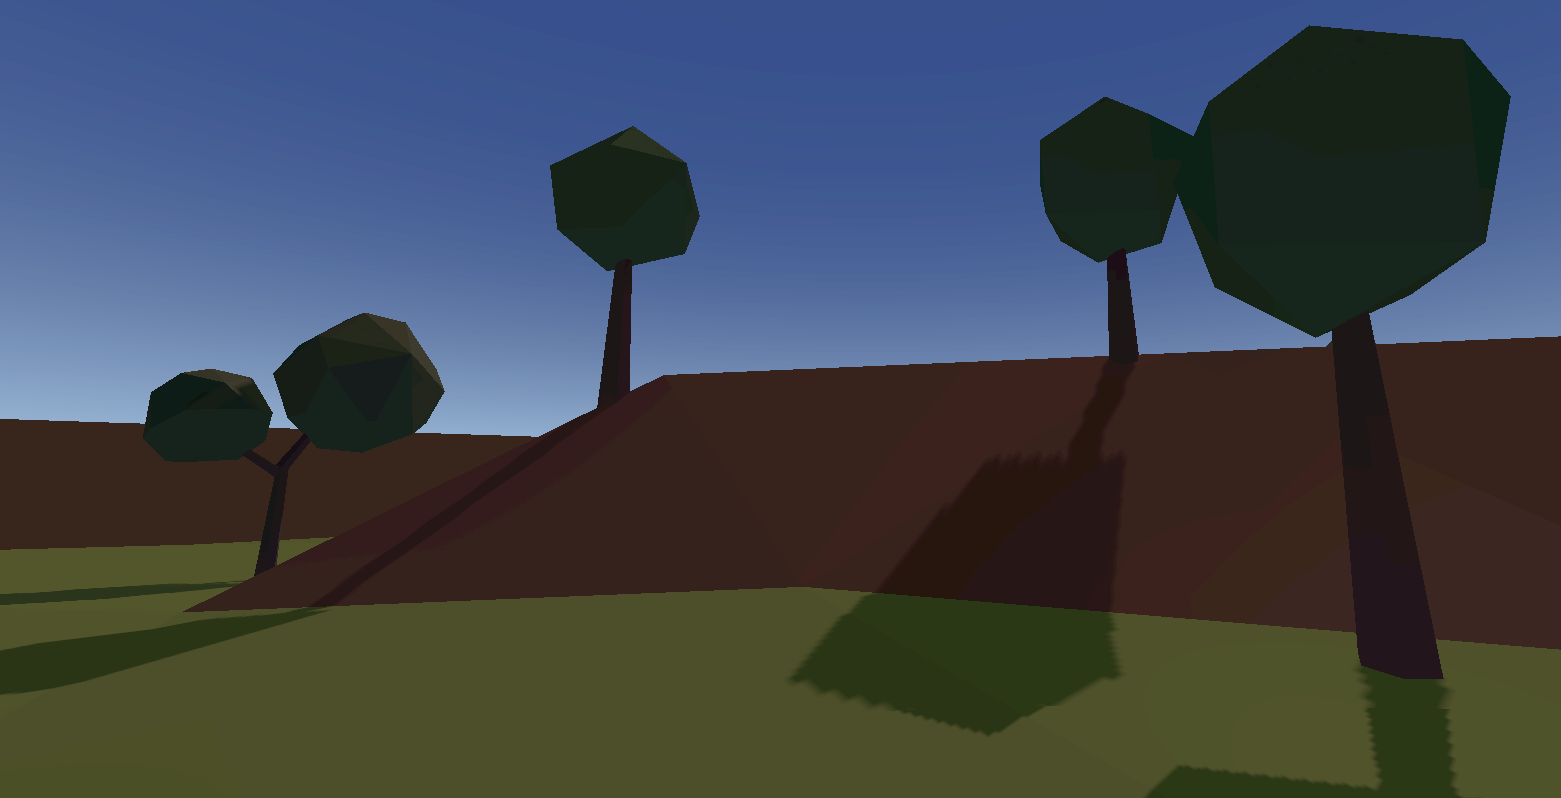tree: (1156, 22, 1553, 682), (141, 310, 447, 579), (537, 122, 707, 370), (1023, 94, 1194, 328)
